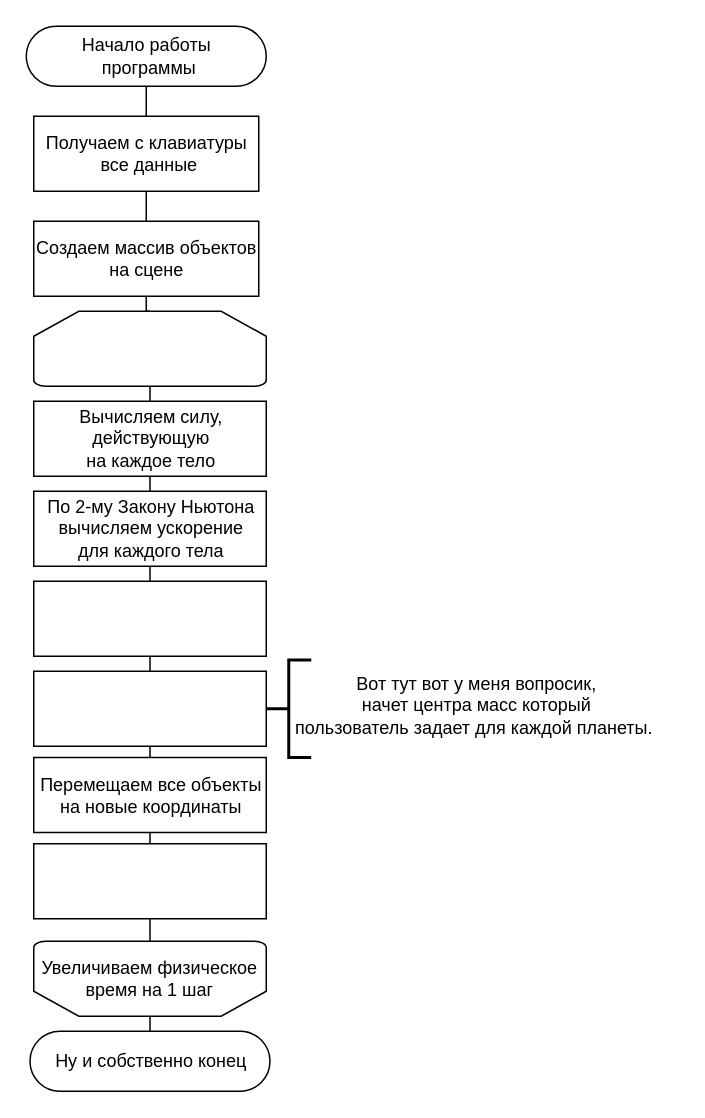
Some shapes in this 705 by 1118 pixel diagram are drawn without their labels. Here are the shapes that lost their labels. From the top down, the centre of each, then its label:
At pixel 149 348: "Бесконечный цикл".
At pixel 149 618: "По Эйлеру вычисляем следующее текущее положение тела".
At pixel 149 708: "Переводим полученные координаты в координаты общей системы".
At pixel 149 880: "Отрисовываем всю эту красоту Z-буфером".
